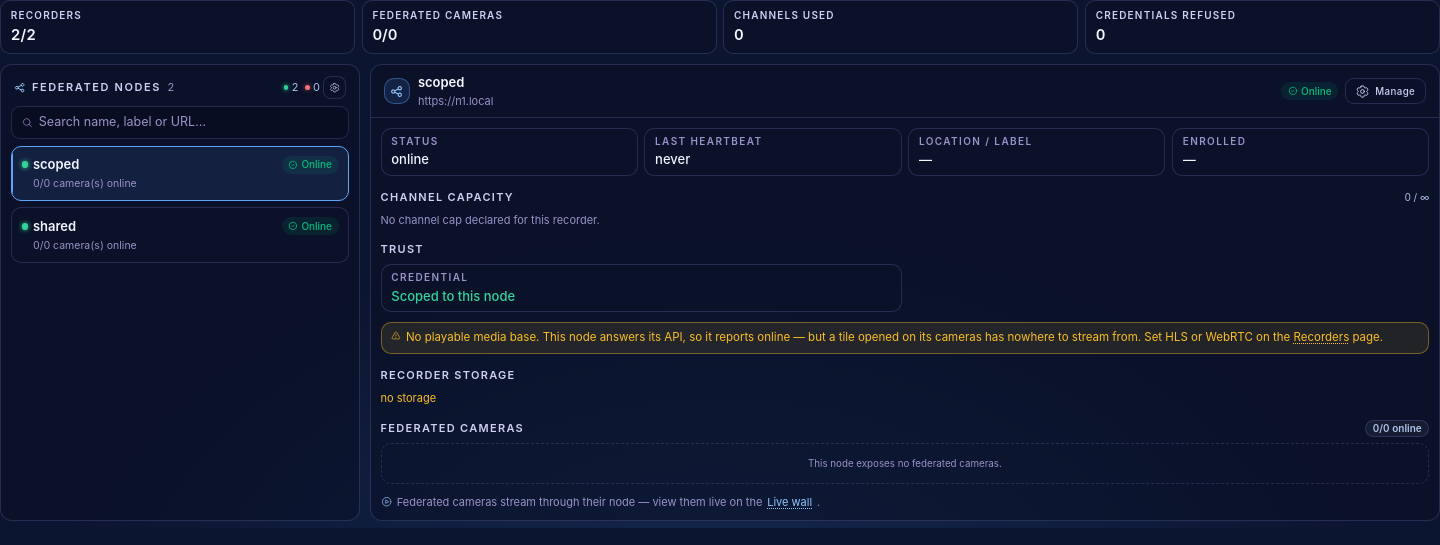
Test: trust › distinguishes a node-scoped credential from the shared service token
Expected: the text "Scoped to this node" is shown, [391,288,515,304]
Click the button "shared Online 0/0 camera(s) online" at x=54, y=226, box [11,207,349,262]
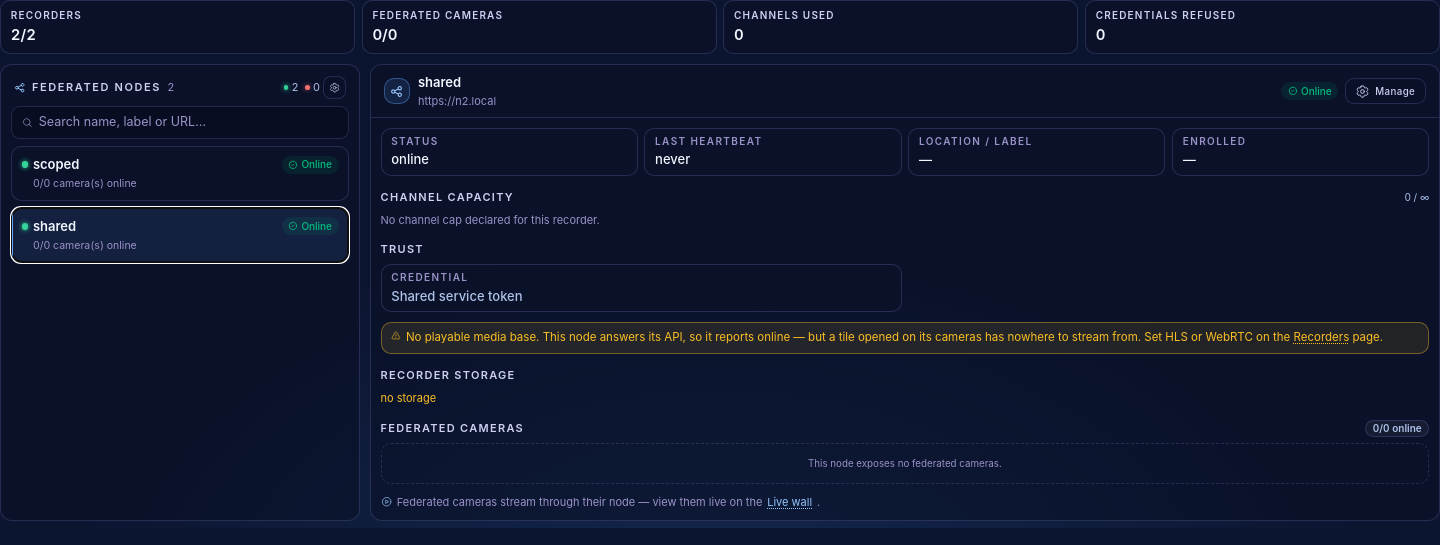
Expected: the text "Shared service token" is shown, [391,288,523,304]
